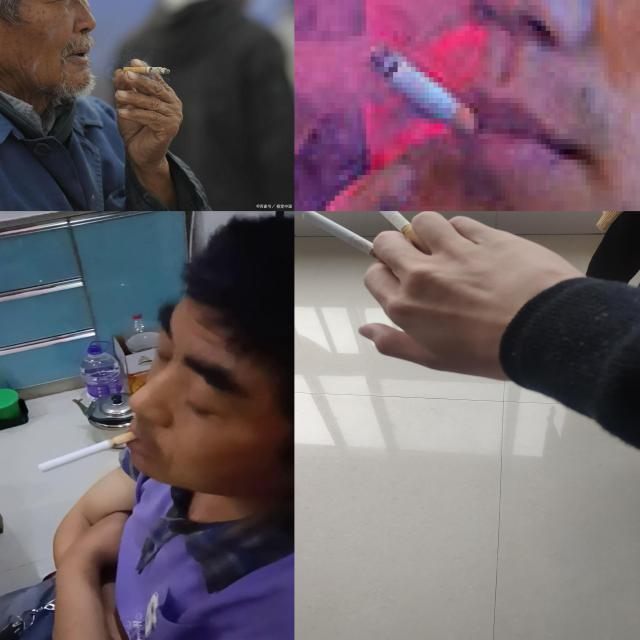cigarette: (357, 36, 483, 129), (302, 211, 398, 270), (38, 431, 136, 473), (356, 211, 432, 255), (122, 66, 172, 74)
